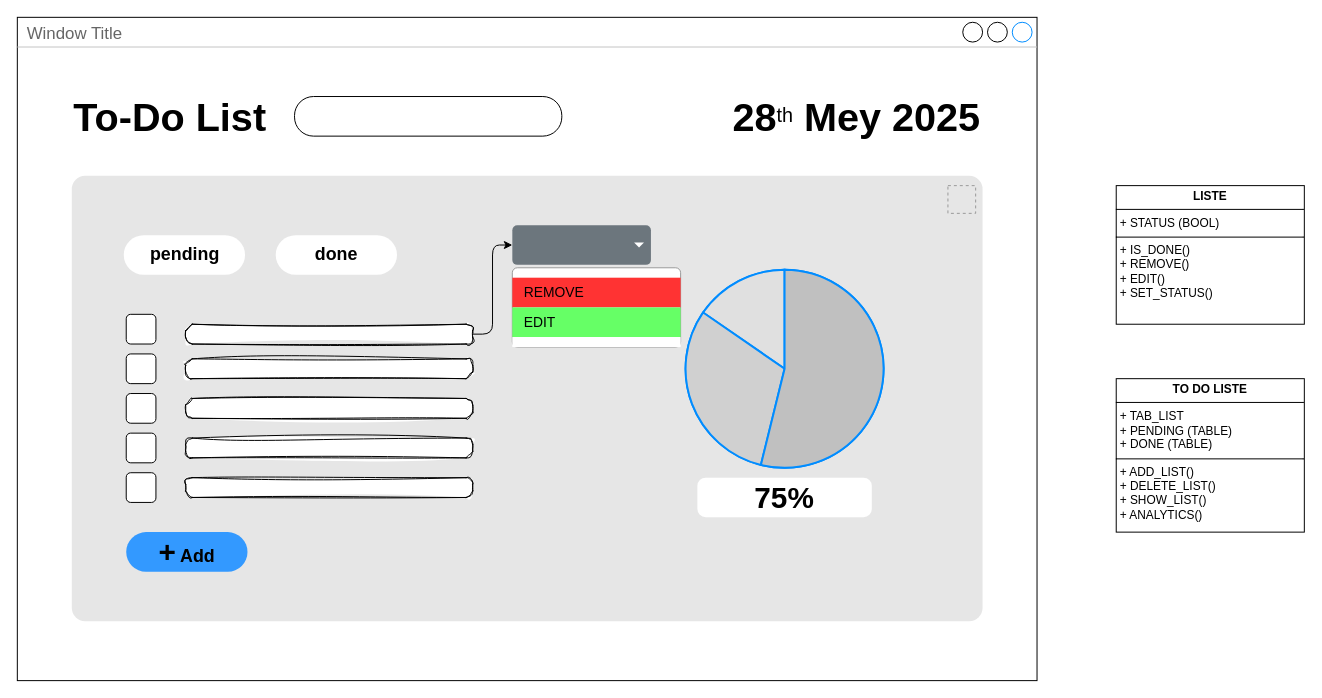
This 1322x698 diagram has some shape labels left out. Grey dashed boxes stand in for pictures. The box of each missing label's shape, as (x1, y1, x2, y2) in pixels:
ACTION: (512, 225, 650, 264)
search: (294, 96, 562, 136)
